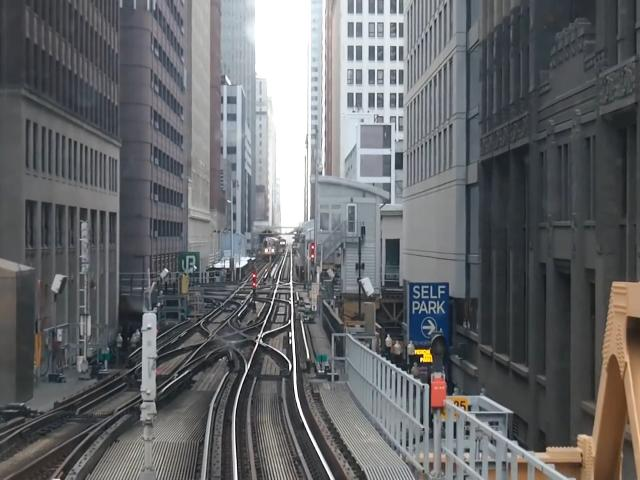signal light: (252, 273, 259, 315), (312, 245, 316, 267)
